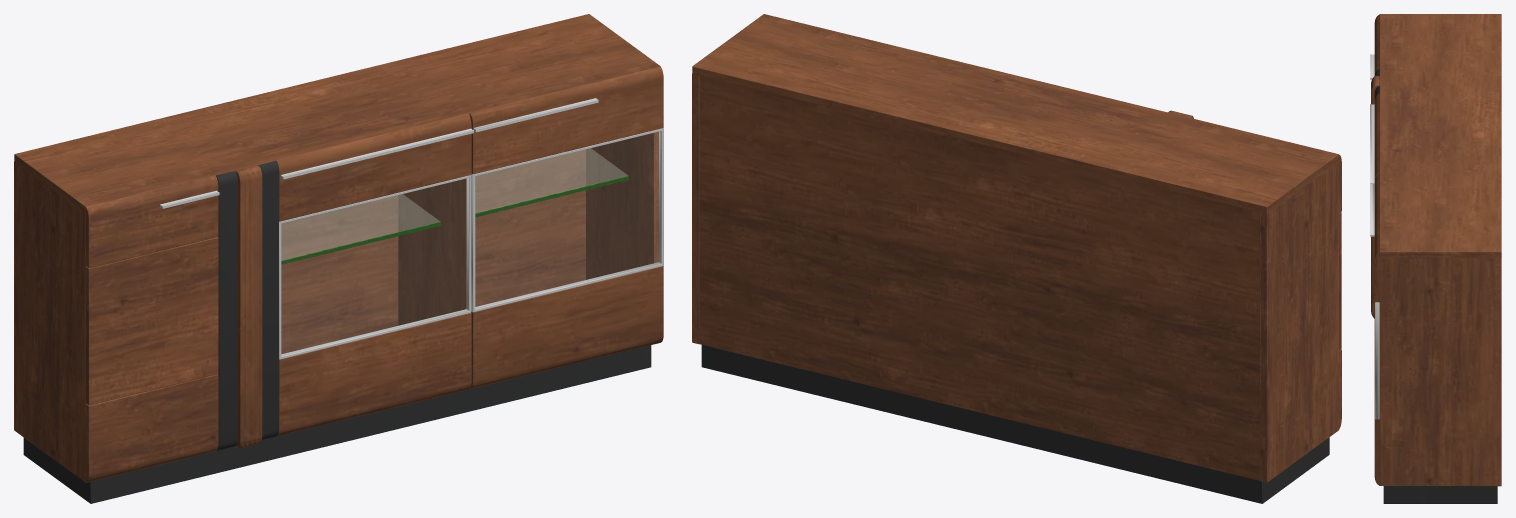
File: B07JFGPVZD.glb
The picture shows the model from 3 angles, left to right: view 1: azimuth 30°, elevation 25°; view 2: azimuth 150°, elevation 25°; view 3: azimuth 270°, elevation 25°; orthographic projection. The views are drawn at different scales.
Visible parts, largest first — view 1: B07JFGPVZD; view 2: B07JFGPVZD; view 3: B07JFGPVZD.
Part boxes in pixels (left/top/right/bottom): B07JFGPVZD: left=14, top=14, right=663, bottom=503; B07JFGPVZD: left=692, top=14, right=1341, bottom=503; B07JFGPVZD: left=1370, top=14, right=1501, bottom=503.
Bounding box in the file's own units: 1.8 × 0.8998 × 0.4199.
Materials: 1 (1 with a texture image).
